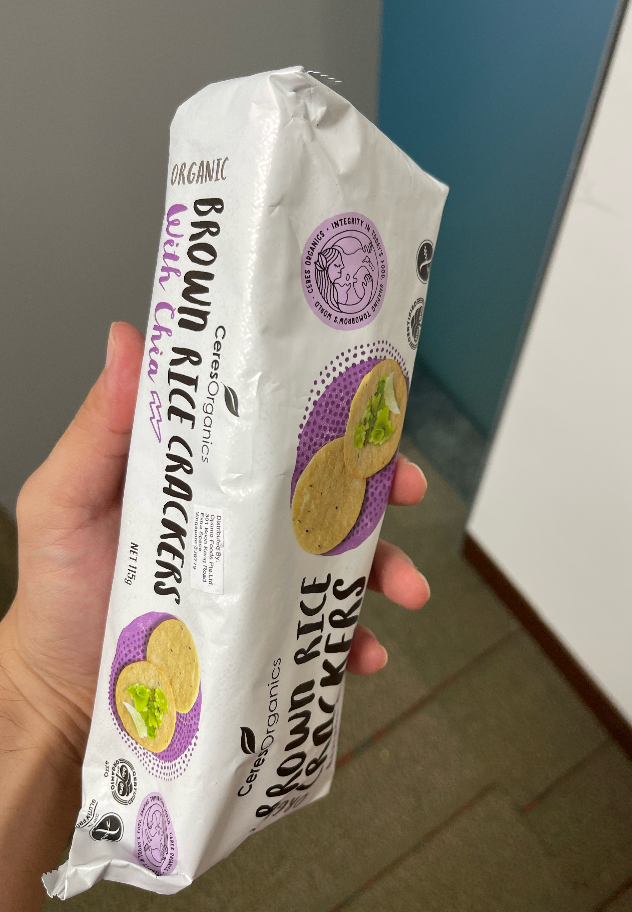crackers_100g-199g: (144, 157, 378, 812)
